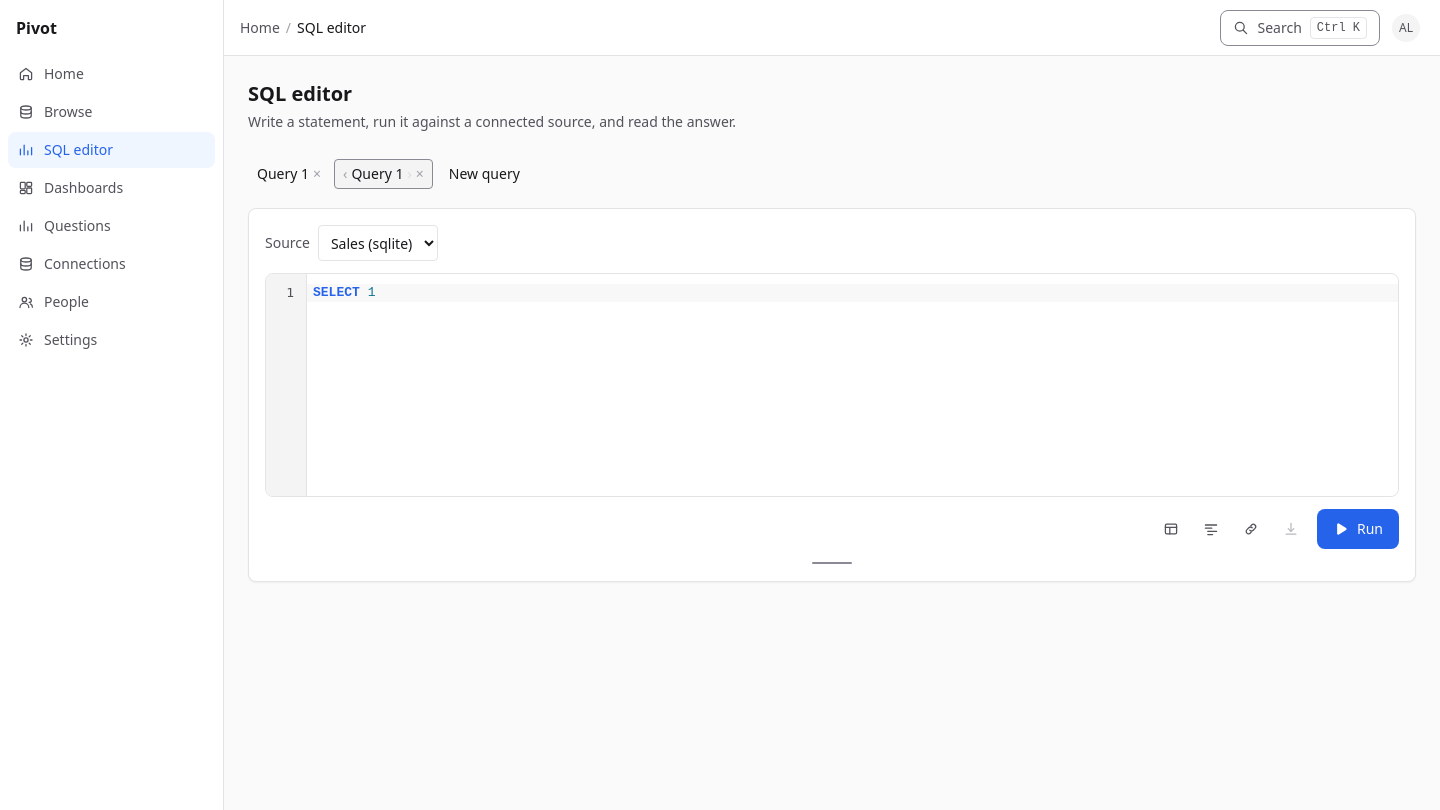
when the source says no › shows the message the source sent
Click the button "Run".
click(1358, 529)  # box [1317,509,1399,549]
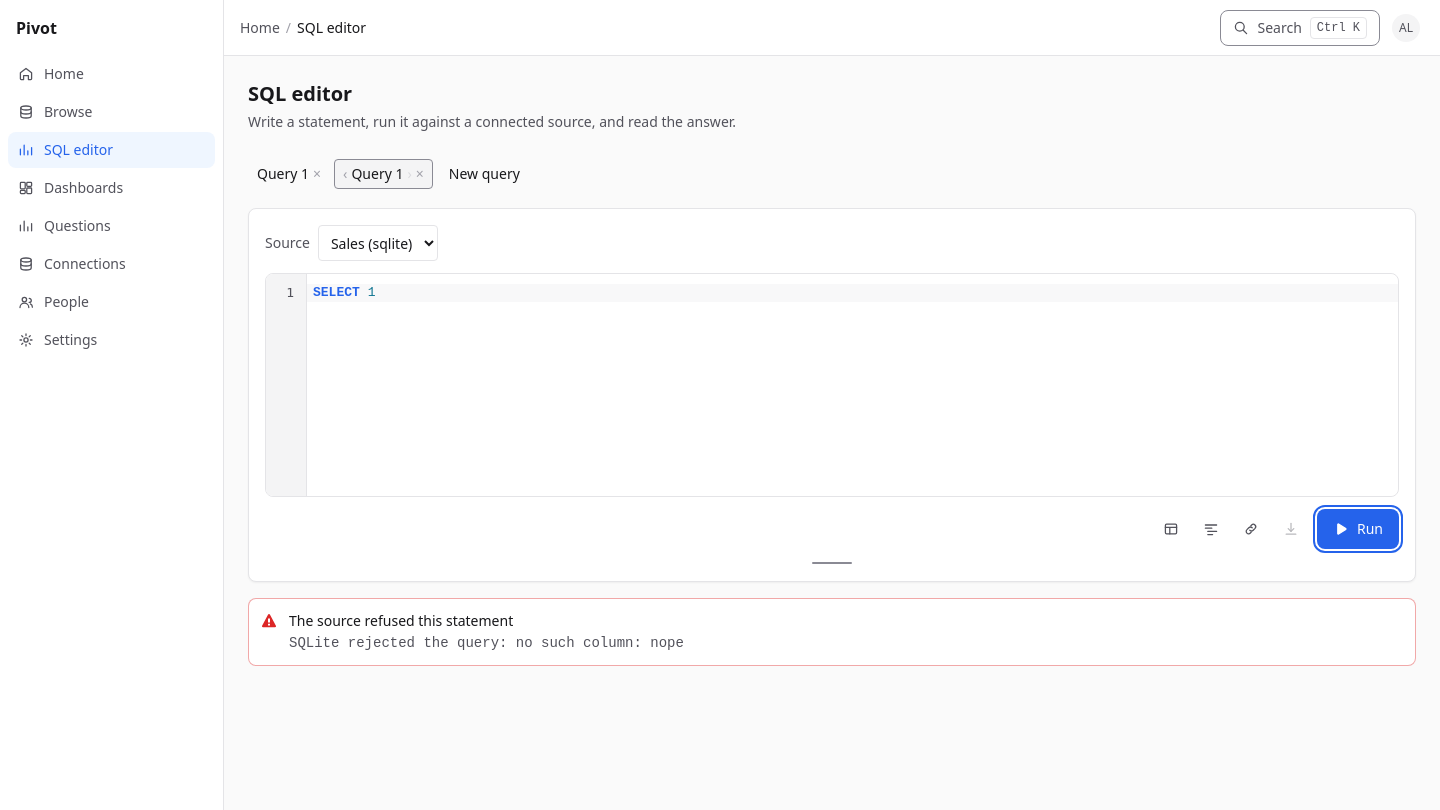
Expected: the text "SQLite rejected the query: no such column: nope" is shown, [289,635,684,651]
